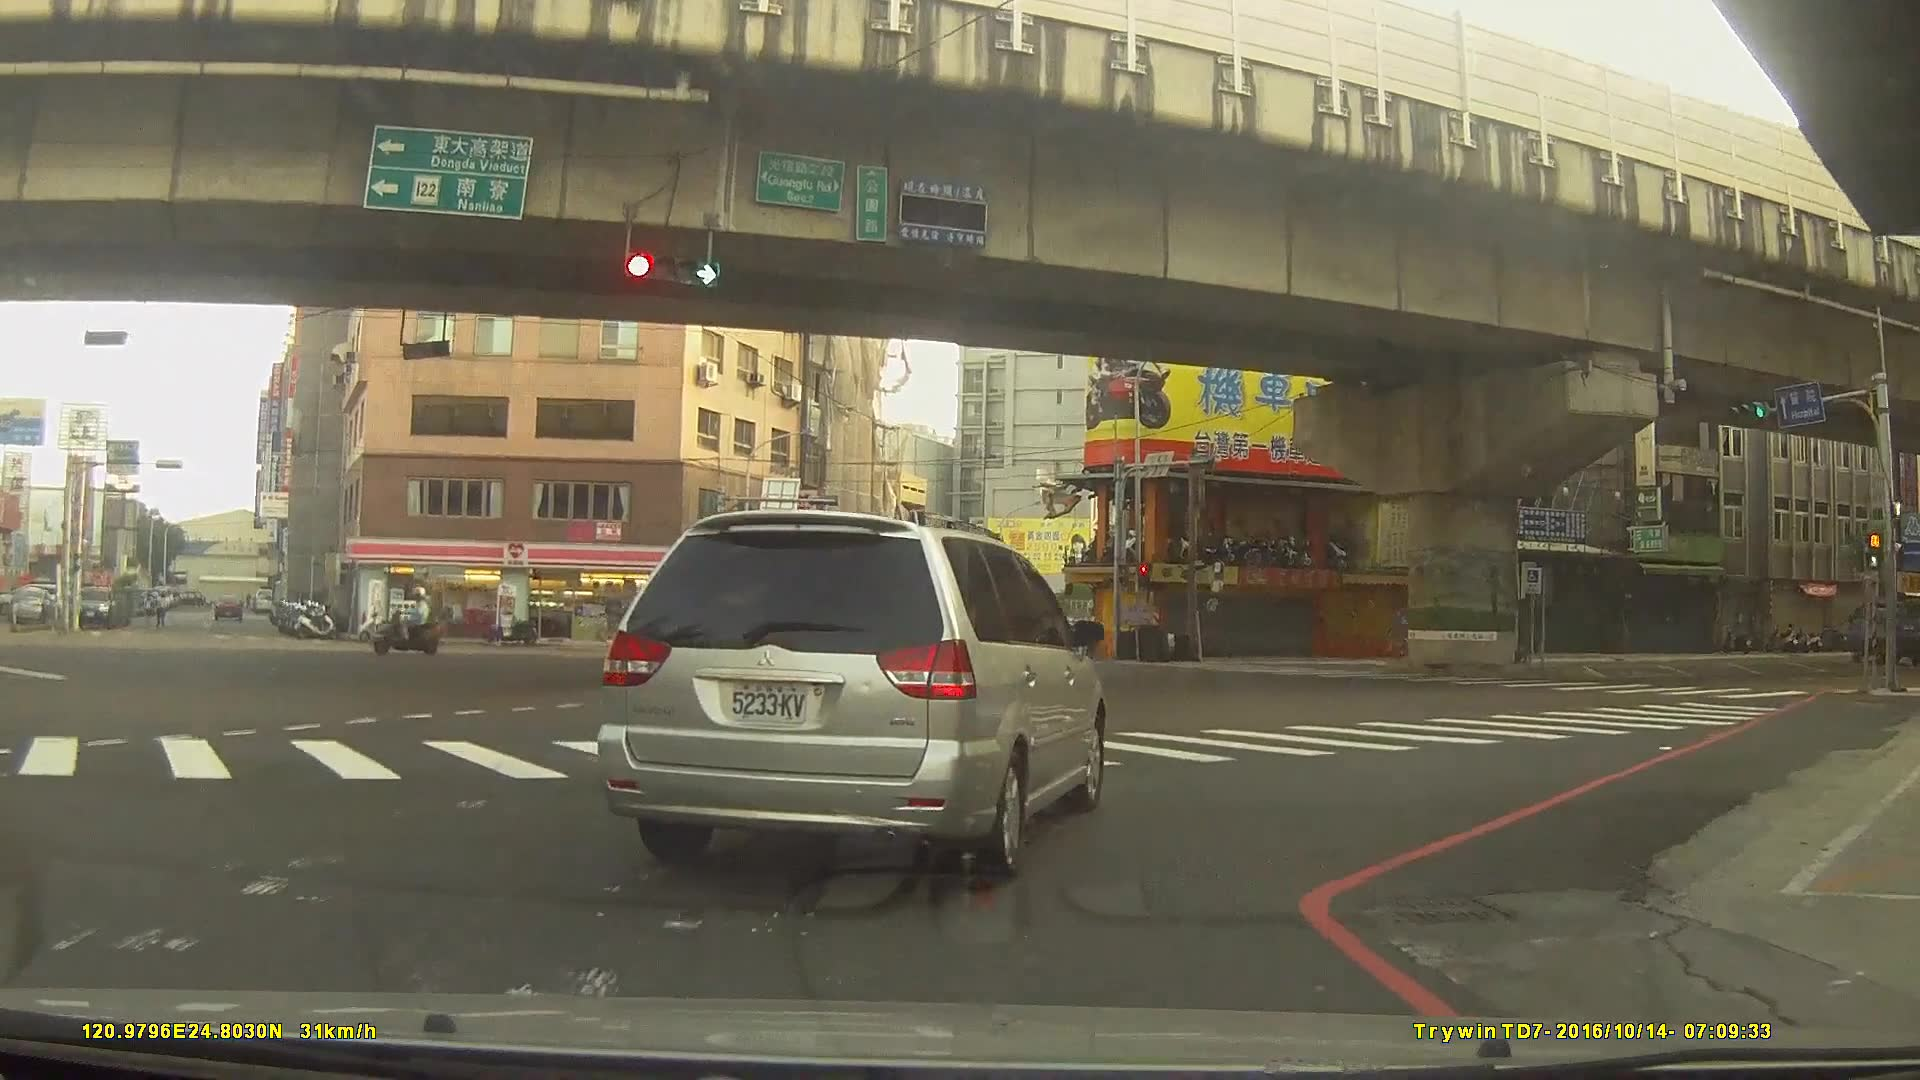rider: (375, 590, 443, 657), (989, 598, 1050, 659)
vehicle: (593, 507, 1107, 878), (1848, 598, 1920, 664), (871, 627, 940, 667), (72, 584, 116, 629), (543, 606, 605, 633), (209, 592, 244, 622)
